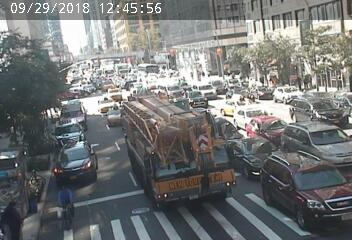car: (138, 110, 207, 177), (285, 160, 331, 201), (62, 146, 98, 179), (300, 124, 335, 153), (298, 100, 326, 120), (57, 122, 83, 143), (236, 143, 258, 161), (234, 105, 255, 121), (260, 119, 275, 135), (189, 91, 206, 105), (211, 76, 225, 90), (163, 84, 180, 95), (279, 87, 295, 98), (203, 84, 216, 97), (64, 100, 78, 111), (104, 110, 119, 120), (98, 96, 111, 106), (66, 86, 77, 95), (82, 85, 93, 92), (258, 85, 266, 94), (103, 78, 111, 85), (232, 76, 240, 83), (109, 90, 118, 94)
